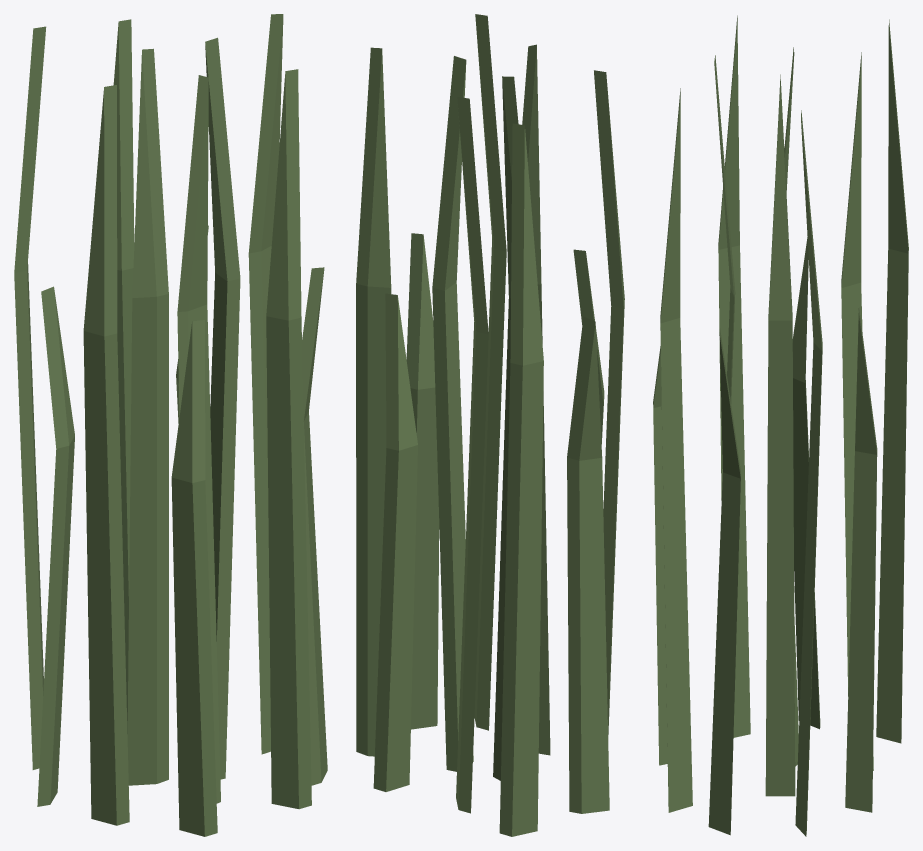
Rendered from grass_clump.glb.
3 renders of one model, left to right at view 1: azimuth 30°, elevation 25°; view 2: azimuth 150°, elevation 25°; view 3: azimuth 270°, elevation 25°, orthographic. The views are drawn at different scales.
Parts seen in each view (by area): view 1: grass_clump; view 2: grass_clump; view 3: grass_clump.
Part boxes in pixels (x1,y1,x2,y2): grass_clump: [14, 14, 327, 836]; grass_clump: [356, 14, 624, 836]; grass_clump: [653, 15, 908, 836].
Size of the model in its own units: 0.3738 by 1.01 by 0.3272.
